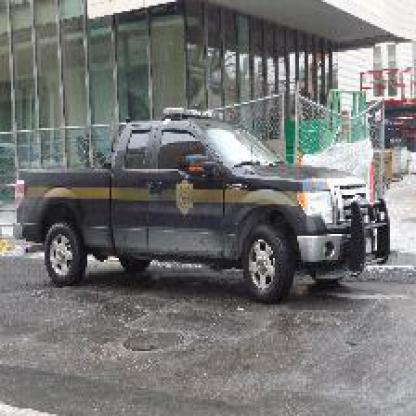emergency: (13, 108, 390, 316)
